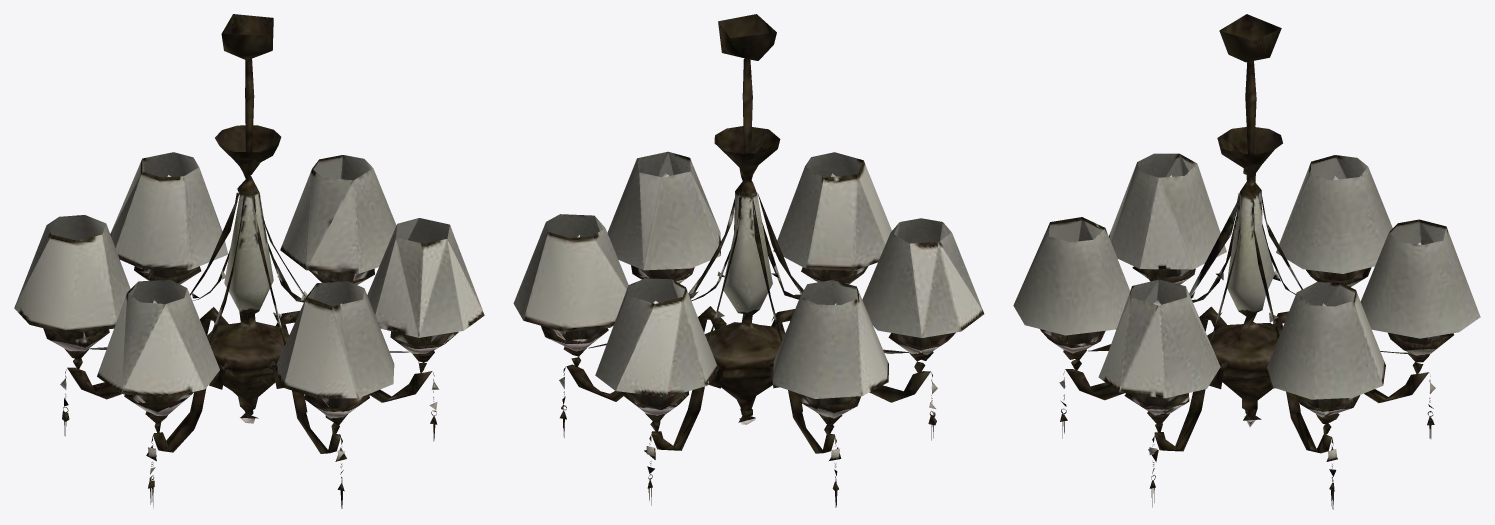
The model's file is chandelier.glb.
The picture shows the model from 3 angles, left to right: view 1: azimuth 30°, elevation 25°; view 2: azimuth 150°, elevation 25°; view 3: azimuth 270°, elevation 25°; orthographic projection.
Visible parts, largest first — view 1: lo; view 2: lo; view 3: lo.
Boxes of the visible parts, x1,y1,x2,y2 form: lo: [14, 14, 484, 508]; lo: [513, 14, 984, 507]; lo: [1013, 14, 1480, 509].
Bounding box in the file's own units: 0.7394 × 0.7984 × 0.8165.
Materials: 1 (1 with a texture image).
